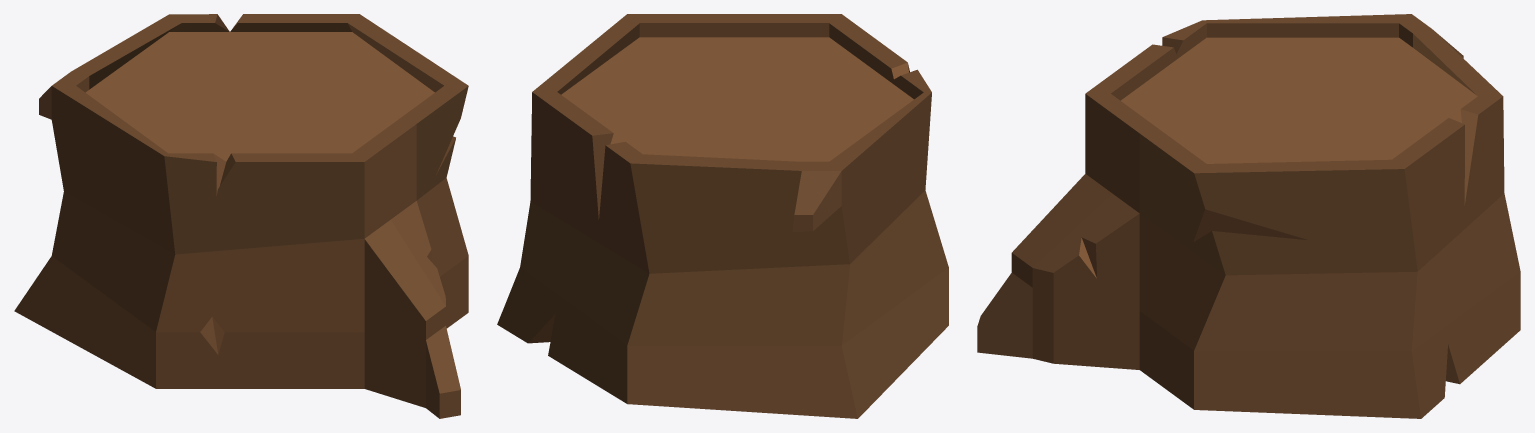
The model's file is Tree_Trunk_3_Light_Brown.fbx.
3 views of the same model, side by side, from view 1: azimuth 30°, elevation 25°; view 2: azimuth 150°, elevation 25°; view 3: azimuth 270°, elevation 25° (orthographic). The views are drawn at different scales.
Parts seen in each view (by area): view 1: Tree_Trunk_3_Light_Brown_Part_1, Tree_Trunk_3_Light_Brown_Part_2; view 2: Tree_Trunk_3_Light_Brown_Part_1, Tree_Trunk_3_Light_Brown_Part_2; view 3: Tree_Trunk_3_Light_Brown_Part_1, Tree_Trunk_3_Light_Brown_Part_2.
Part boxes in pixels (<box>): Tree_Trunk_3_Light_Brown_Part_1: <box>14,14,468,418</box>; Tree_Trunk_3_Light_Brown_Part_2: <box>85,14,455,354</box>; Tree_Trunk_3_Light_Brown_Part_1: <box>497,14,948,418</box>; Tree_Trunk_3_Light_Brown_Part_2: <box>528,37,913,343</box>; Tree_Trunk_3_Light_Brown_Part_1: <box>977,14,1520,418</box>; Tree_Trunk_3_Light_Brown_Part_2: <box>1079,37,1478,384</box>.
Size of the model in its own units: 198 by 120 by 250.
